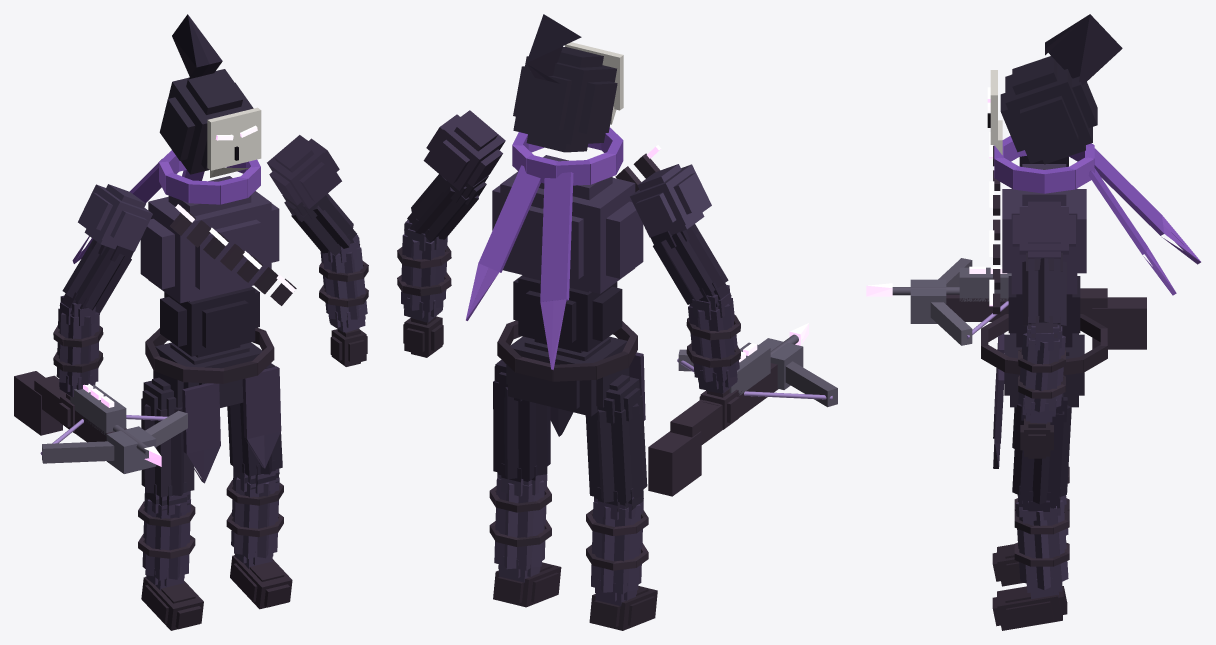
3 views of the same model, side by side, from view 1: azimuth 30°, elevation 25°; view 2: azimuth 150°, elevation 25°; view 3: azimuth 270°, elevation 25° (orthographic). The views are drawn at different scales.
Parts seen in each view (by area): view 1: DartSentry; view 2: DartSentry; view 3: DartSentry.
Part boxes in pixels (x1=…): DartSentry: x1=14, y1=14, x2=368, y2=630; DartSentry: x1=397, y1=14, x2=837, y2=630; DartSentry: x1=866, y1=14, x2=1200, y2=630.
Size of the model in its own units: 1 by 1.52 by 0.7855.
